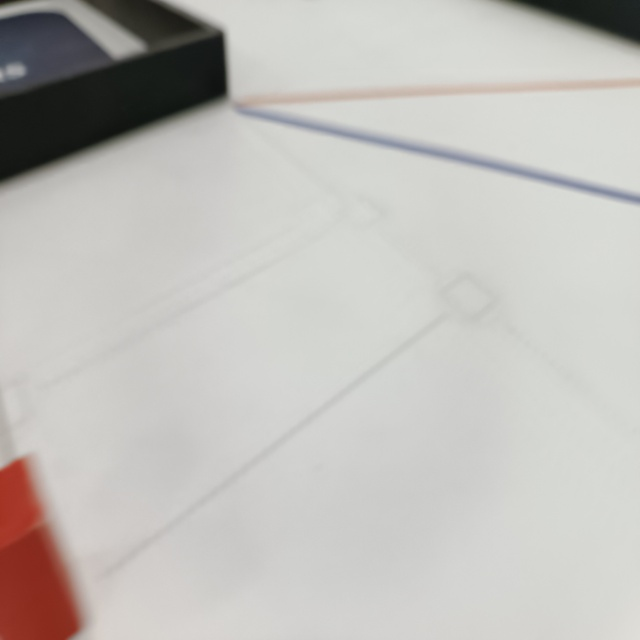blue line: (222, 106, 640, 207)
orange line: (241, 74, 640, 104)
red rectangular prism: (0, 456, 80, 640)
